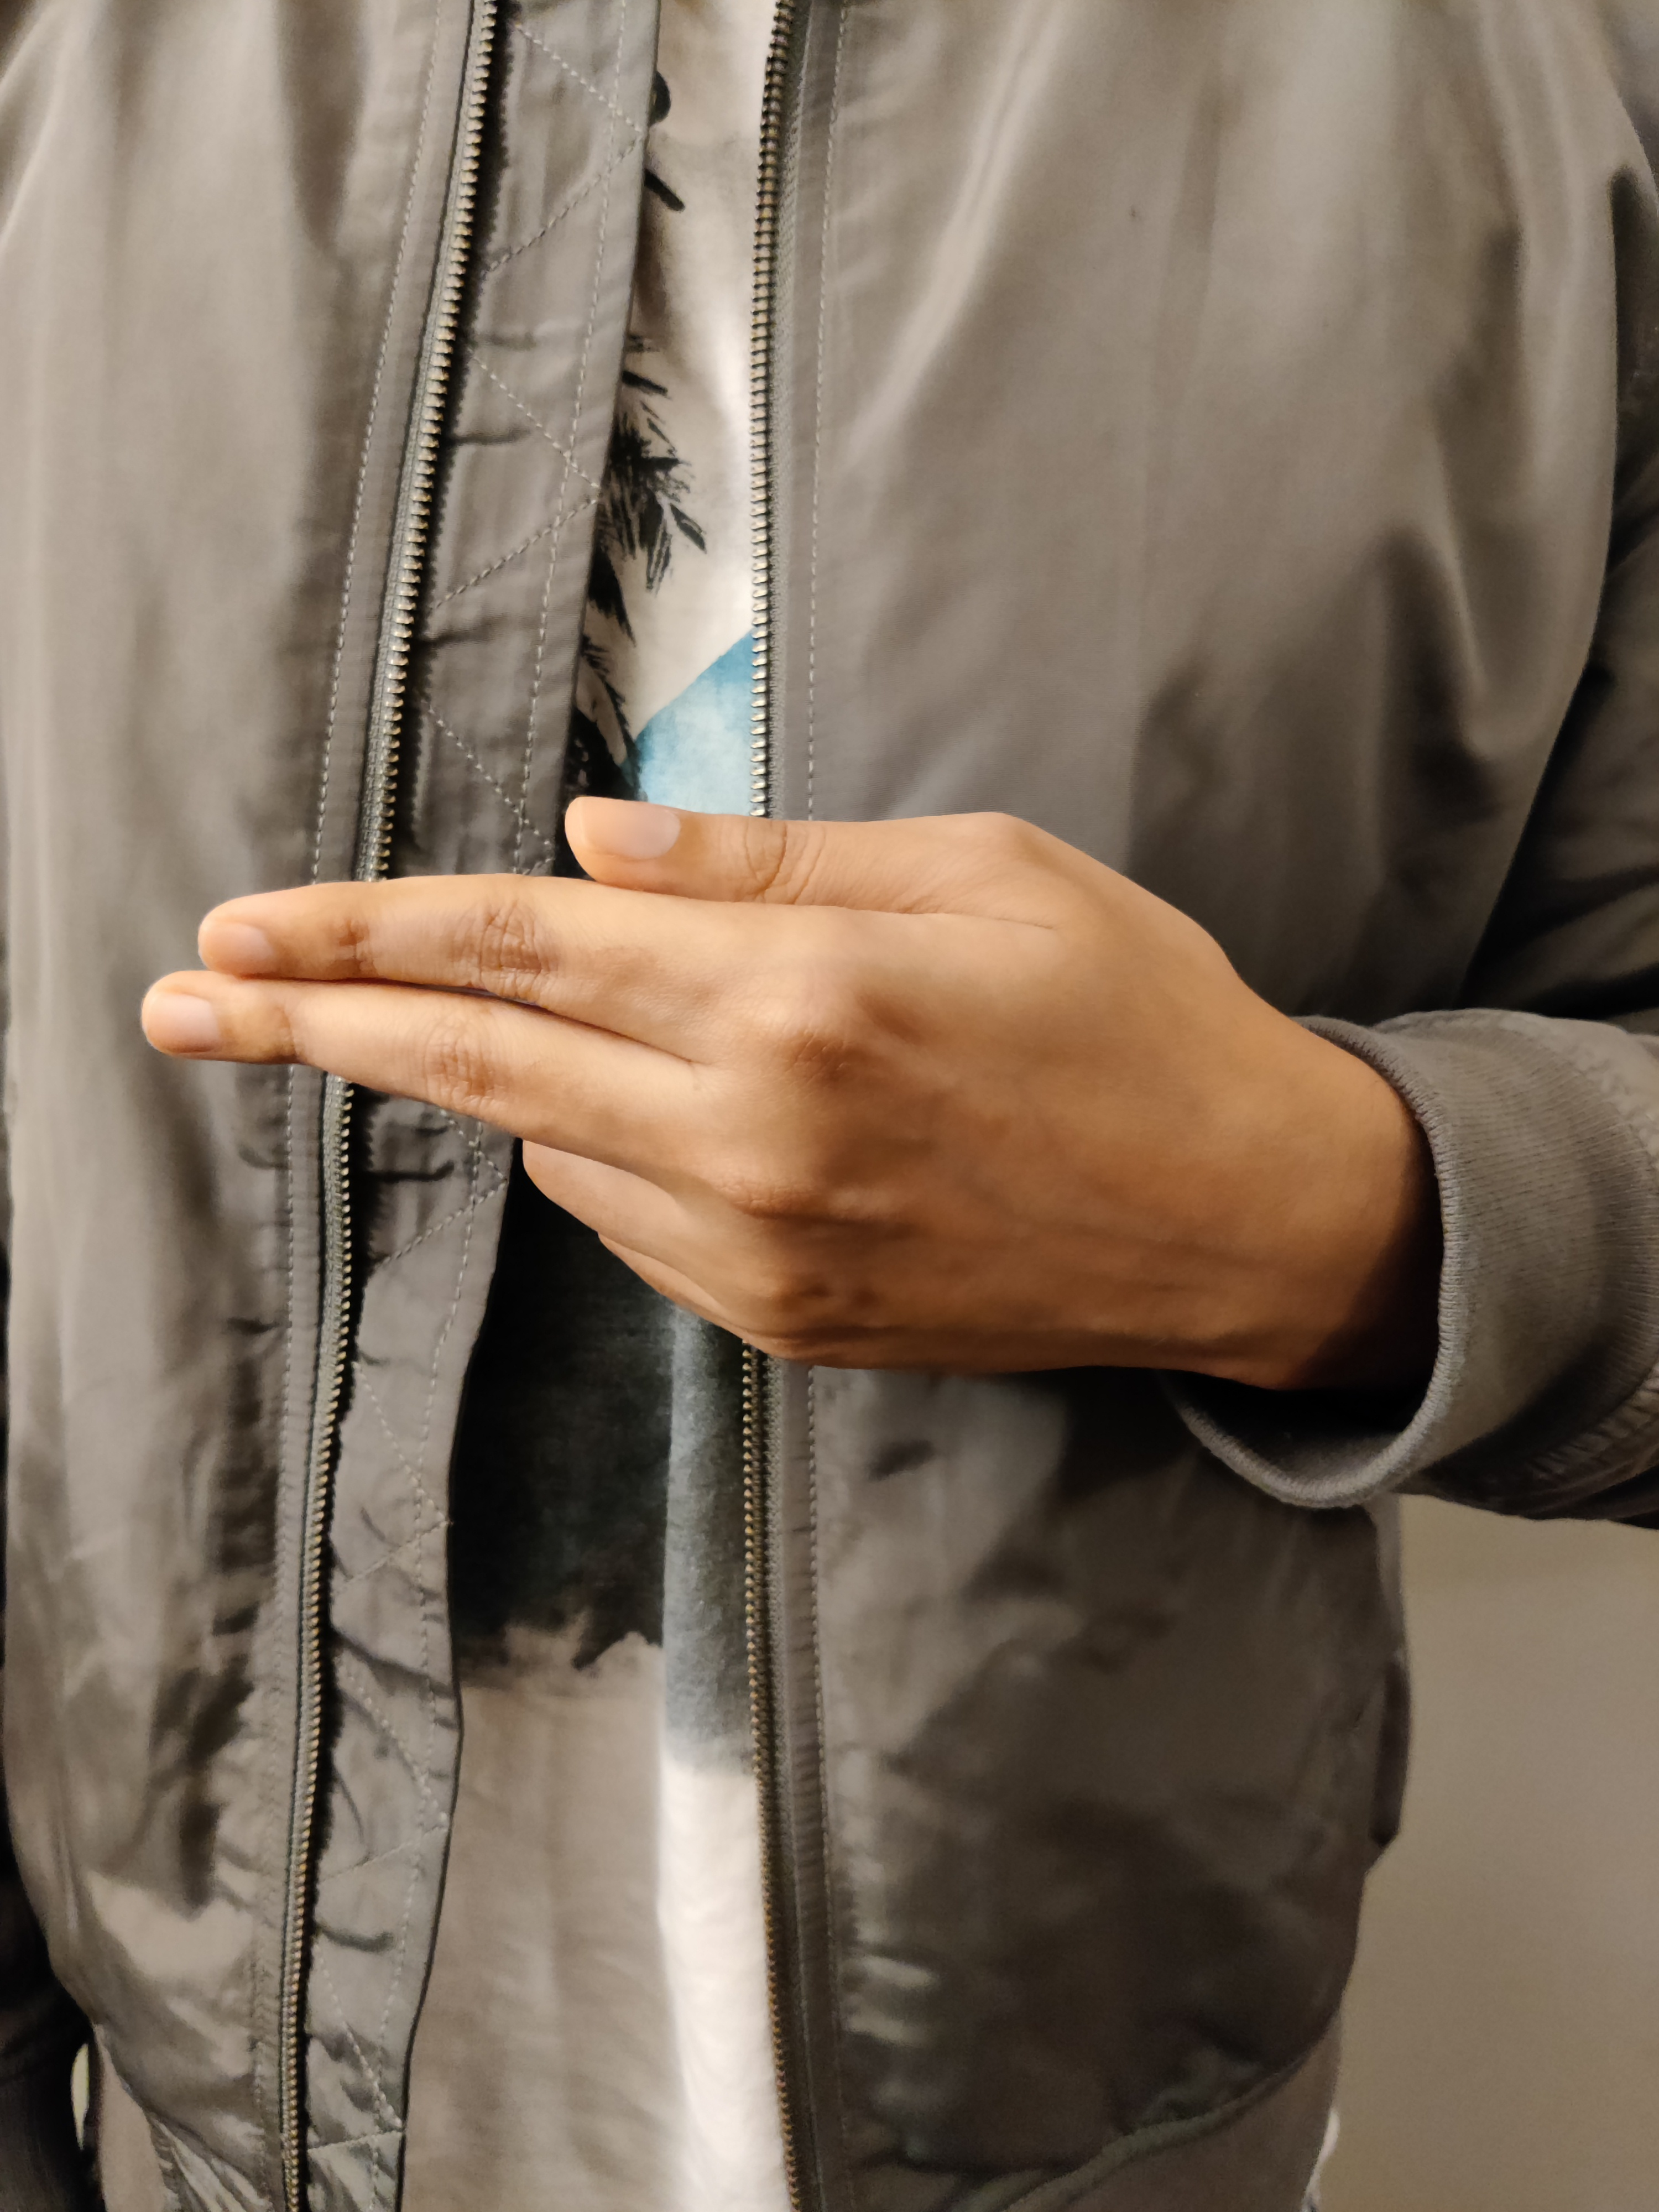right: (61, 559, 1596, 1625)
